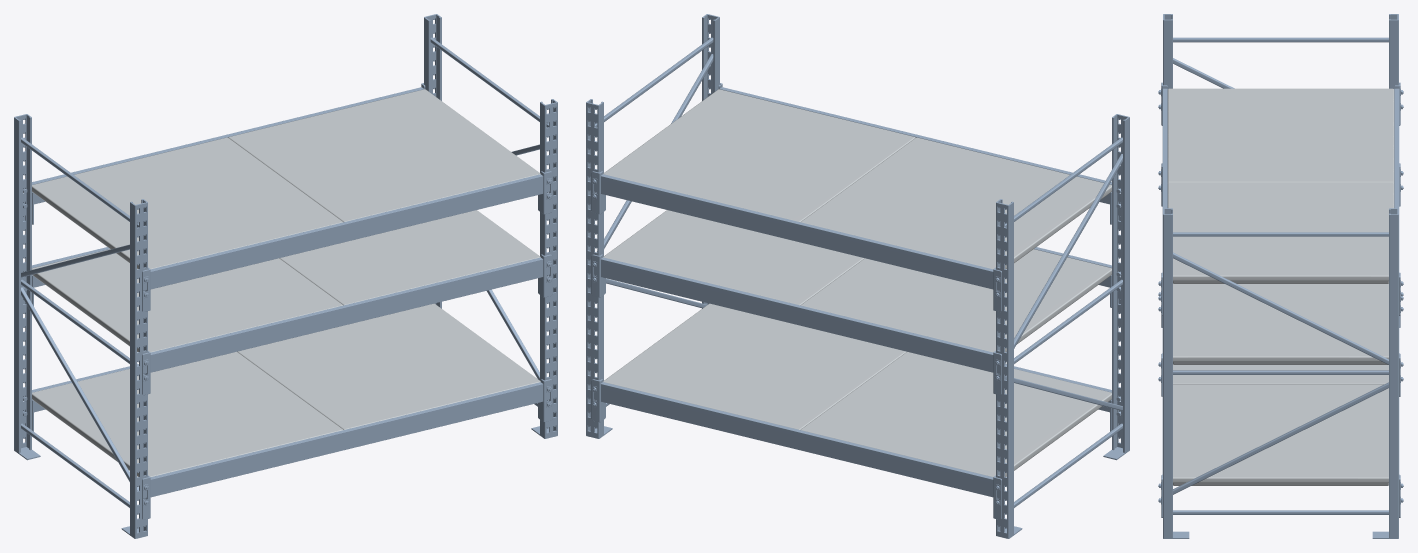
File: rack_large_empty_a02-v2.glb
3 views of the same model, side by side, from view 1: azimuth 30°, elevation 25°; view 2: azimuth 150°, elevation 25°; view 3: azimuth 270°, elevation 25° (orthographic). The views are drawn at different scales.
Visible parts, largest first — view 1: sm_rack_a02_mesh_00; view 2: sm_rack_a02_mesh_00; view 3: sm_rack_a02_mesh_00.
Part boxes in pixels (<box>): sm_rack_a02_mesh_00: <box>14,14,557,538</box>; sm_rack_a02_mesh_00: <box>586,14,1129,538</box>; sm_rack_a02_mesh_00: <box>1158,14,1403,538</box>.
Size of the model in its own units: 4 by 3.01 by 2.07.
